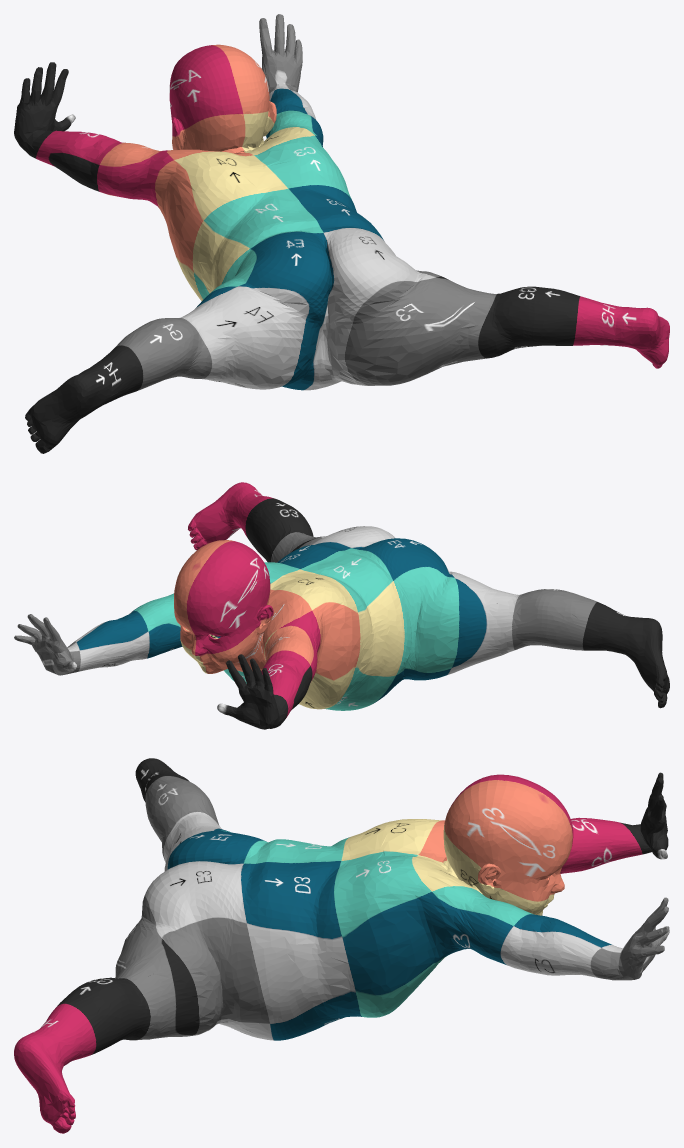
Rendered from kid00-kid10.obj.
3 renders of one model, top to bottom at view 1: azimuth 30°, elevation 25°; view 2: azimuth 150°, elevation 25°; view 3: azimuth 270°, elevation 25°, orthographic. The views are drawn at different scales.
Visible parts, largest first — view 1: kid00-kid10_export; view 2: kid00-kid10_export; view 3: kid00-kid10_export.
Part boxes in pixels (x1,y1,x2,y2): kid00-kid10_export: [14, 14, 669, 453]; kid00-kid10_export: [14, 482, 669, 729]; kid00-kid10_export: [14, 758, 669, 1133].
Size of the model in its own units: 1.05 by 0.4276 by 0.9603.
1 material, 1 textured.
